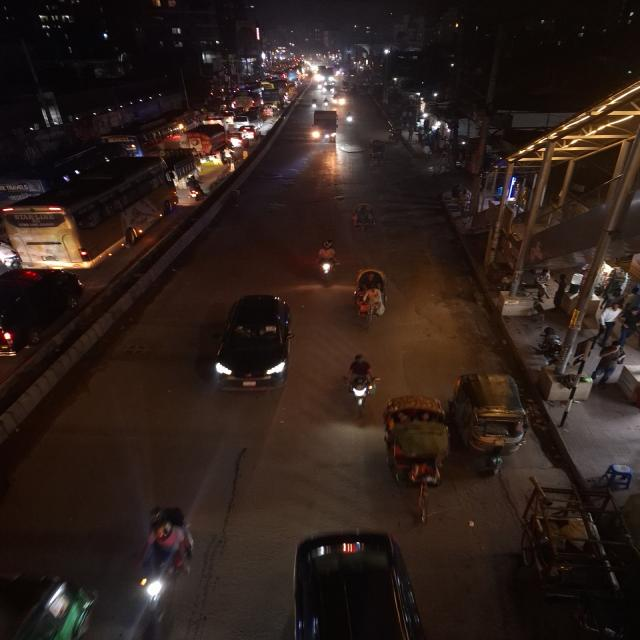bus: (6, 155, 178, 269), (104, 118, 184, 154)
car: (212, 290, 298, 396), (0, 267, 86, 362), (225, 133, 246, 149)
cng: (450, 370, 537, 480), (1, 569, 104, 640)
motorcycle: (131, 493, 199, 634), (343, 351, 381, 415), (311, 238, 341, 290), (183, 174, 206, 203), (221, 146, 236, 168), (345, 110, 356, 126)
rickshaw: (381, 392, 450, 518), (349, 267, 393, 329), (344, 201, 380, 238), (363, 137, 391, 167)
truck: (182, 123, 225, 149), (310, 108, 341, 143)
